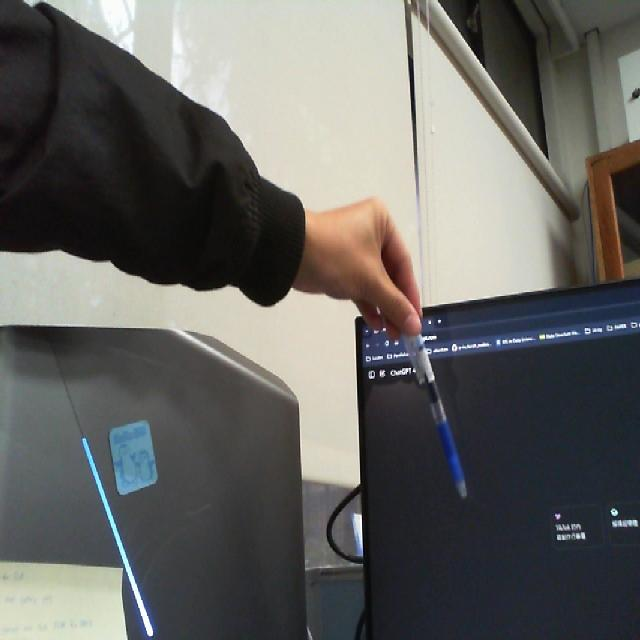Pen: (397, 271, 480, 527)
